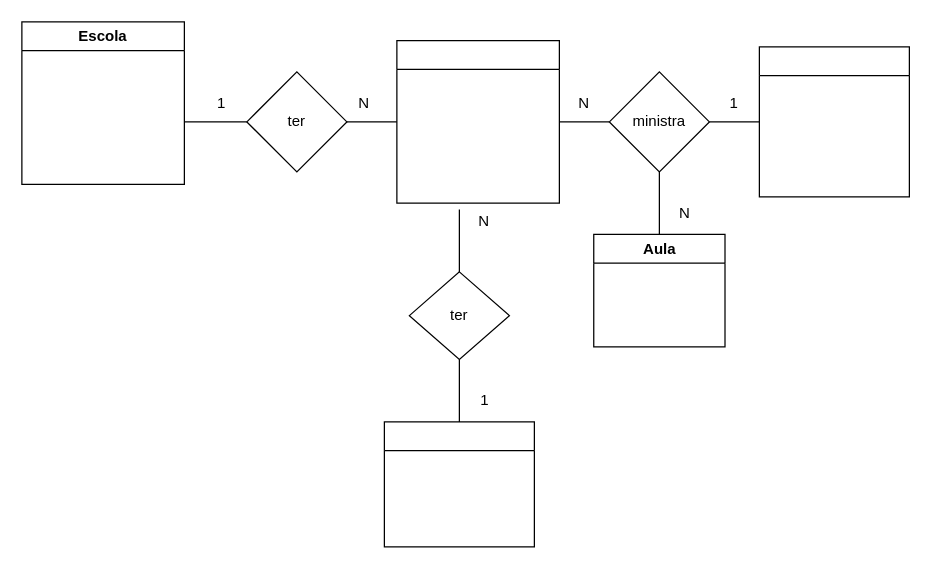
Some shapes in this 931 by 569 pixel diagram are drawn without their labels. The box of each missing label's shape, as (x1, y1, x2, y2) in pixels:
Professor: (758, 46, 909, 197)
Sala: (383, 421, 534, 547)
Turma: (396, 39, 559, 203)
